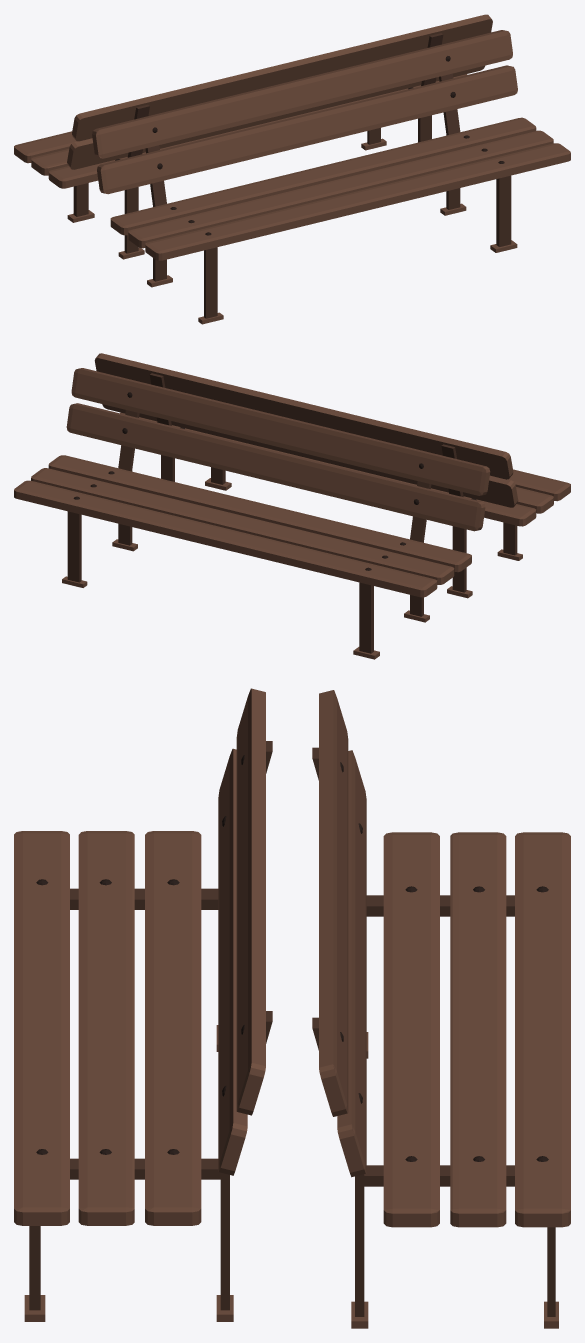
The model's file is DeadEnd_B.glb.
3 renders of one model, top to bottom at view 1: azimuth 30°, elevation 25°; view 2: azimuth 150°, elevation 25°; view 3: azimuth 270°, elevation 25°, orthographic. The views are drawn at different scales.
Parts seen in each view (by area): view 1: Bench_01.001, Bench_01; view 2: Bench_01, Bench_01.001; view 3: Bench_01.001, Bench_01.
Part boxes in pixels (x1,y1,x2,y2): Bench_01.001: [92, 30, 570, 324]; Bench_01: [14, 14, 492, 259]; Bench_01: [14, 368, 490, 659]; Bench_01.001: [94, 353, 570, 598]; Bench_01.001: [14, 688, 272, 1321]; Bench_01: [312, 690, 570, 1328].
Size of what is drawn, in the model's own units: 3.07 by 1.14 by 1.89.
Materials: 1 (1 with a texture image).
